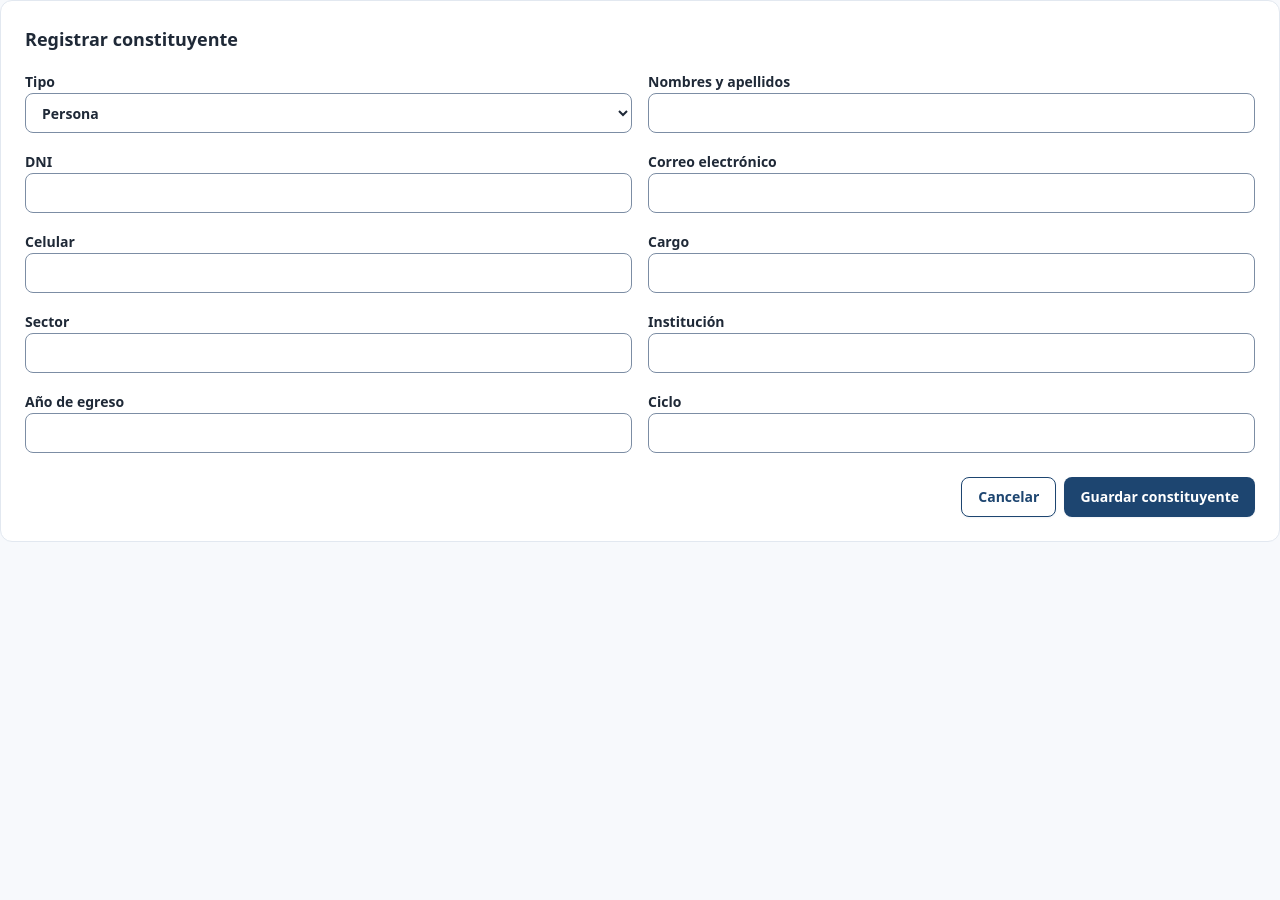
Test: StakeholderForm (HU-021, T-021-18, T-021-29) › shows a voided existing record without offering to edit it
In the field labelled "Nombres y apellidos": (952, 113) x1=648 y1=93 x2=1255 y2=133, type "Mario Duplicado"
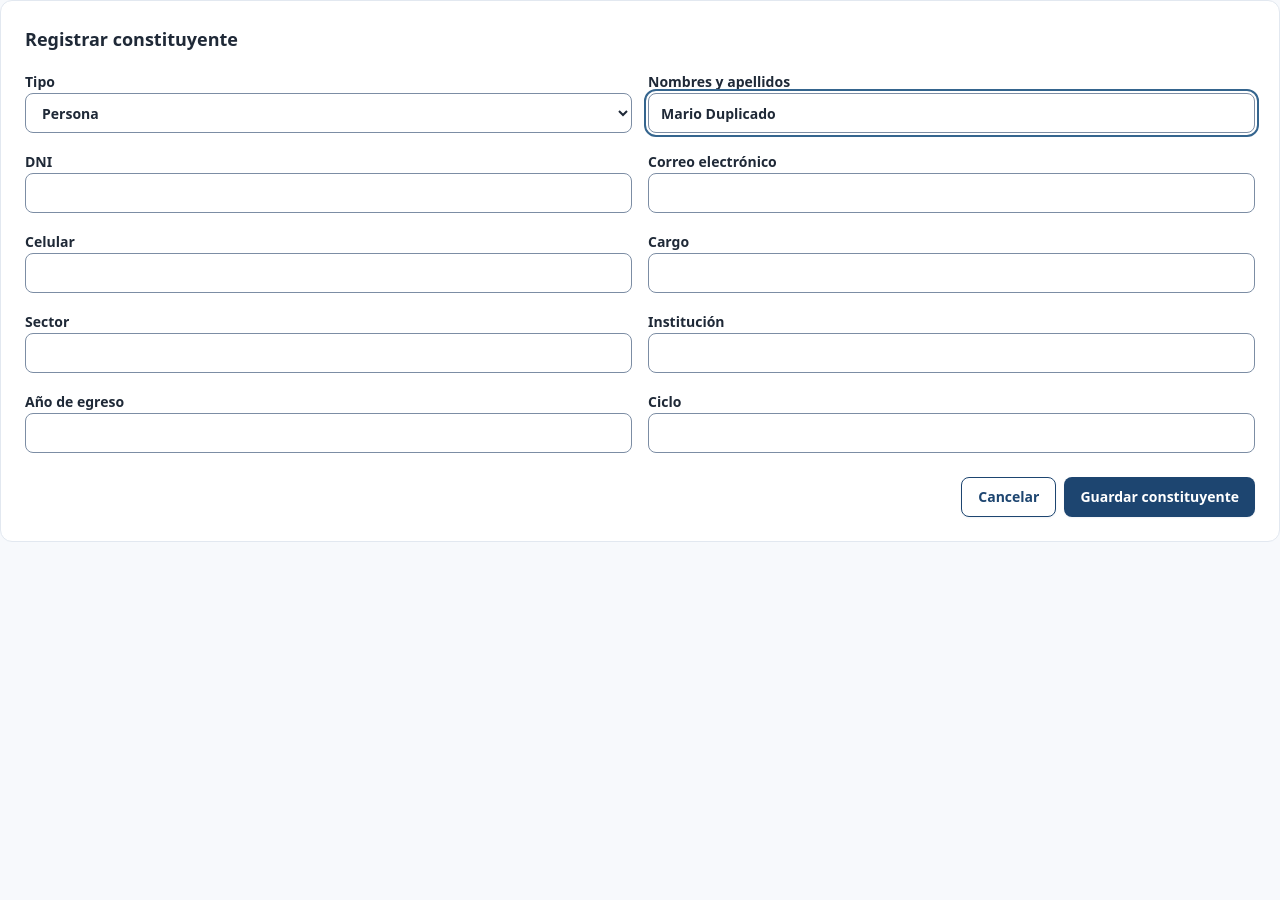
In the field labelled "DNI": (328, 193) x1=25 y1=173 x2=632 y2=213, type "33445566"
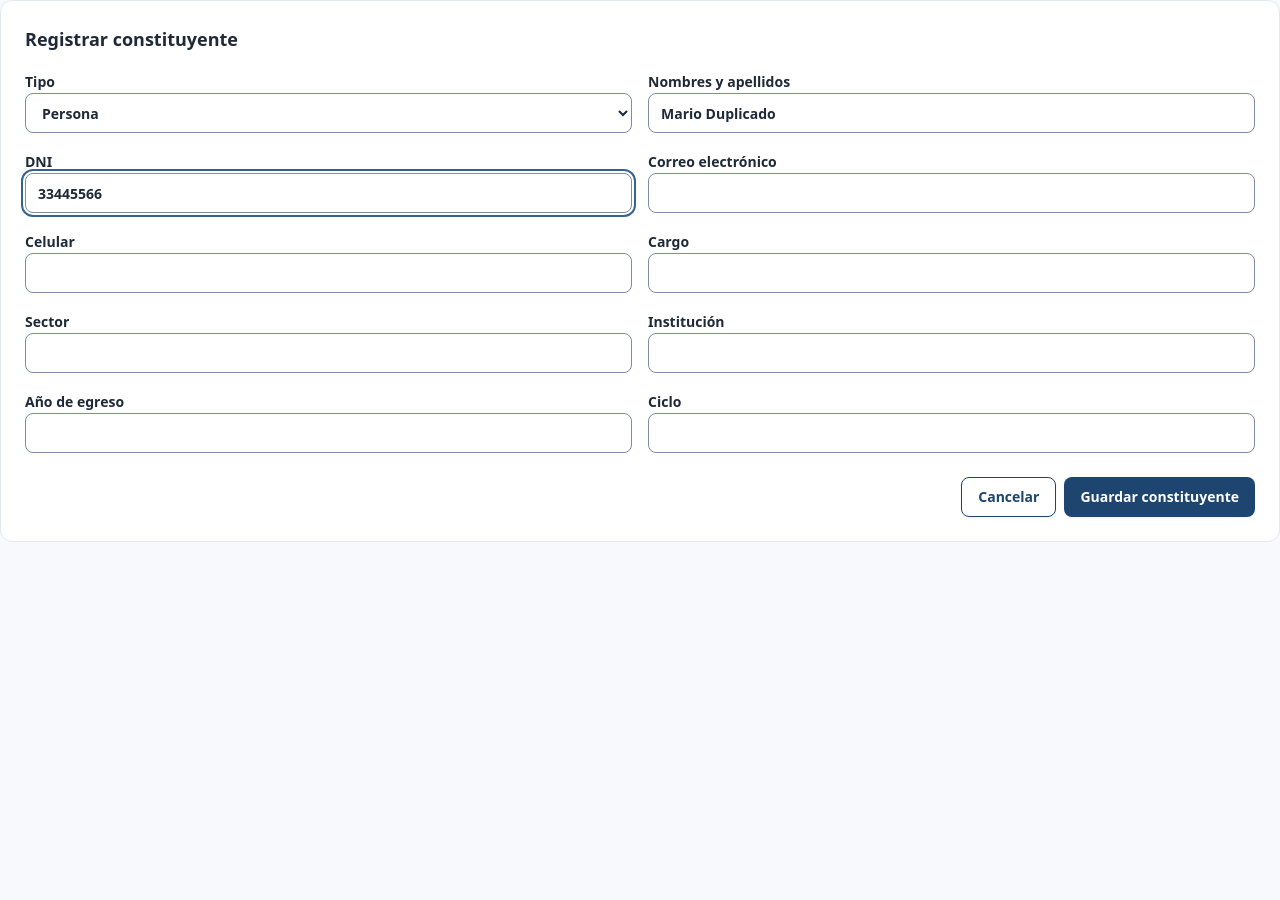
Click the button "Guardar constituyente": click(1160, 497) x1=1064 y1=477 x2=1255 y2=517
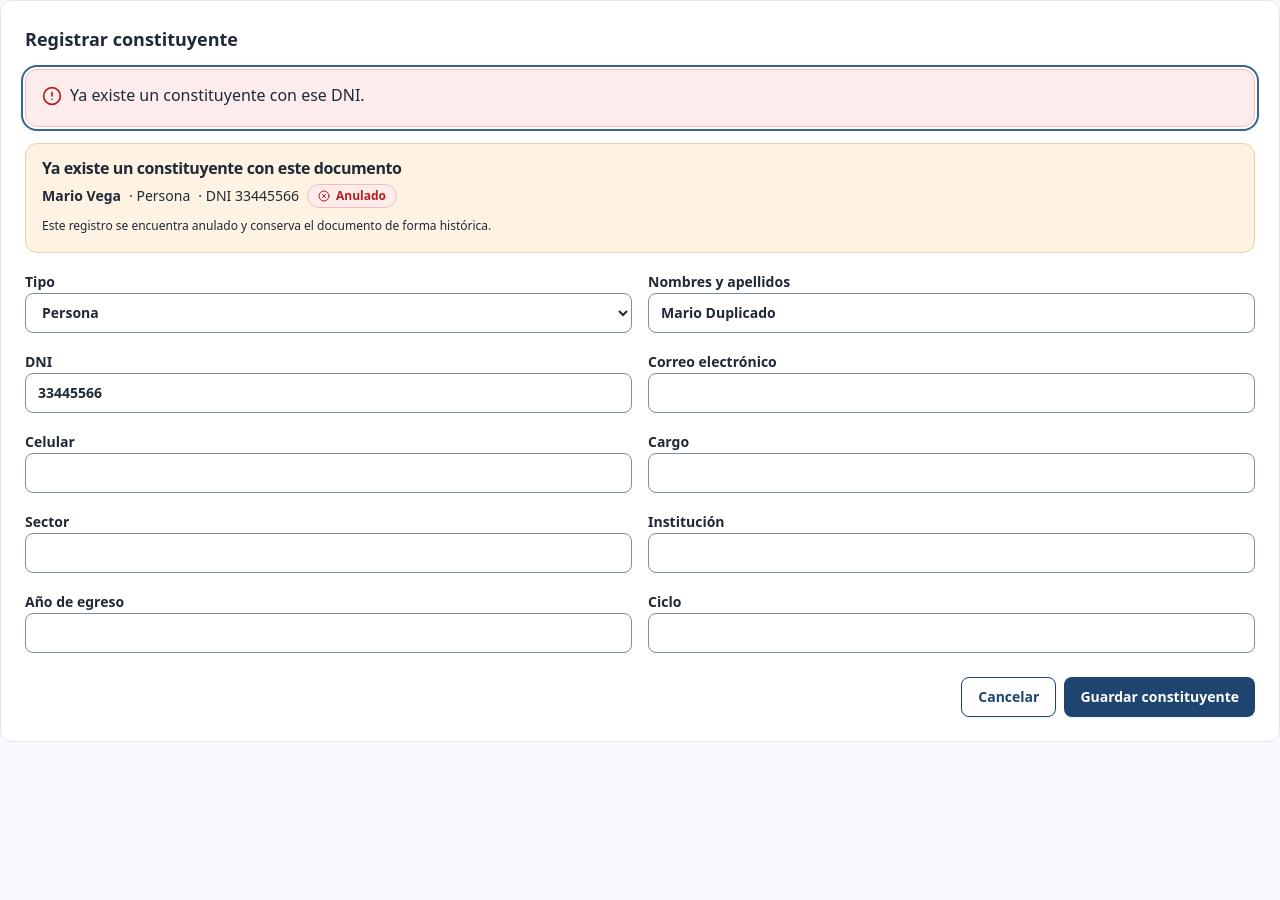
Expected: the text "Mario Vega" is shown, x1=42 y1=186 x2=121 y2=206
Expected: the text "Anulado" is shown, x1=336 y1=187 x2=386 y2=205
